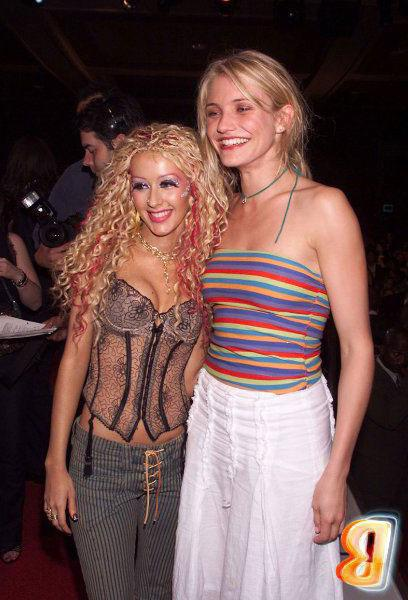Drunk: (202, 79, 274, 167), (130, 154, 186, 232)
